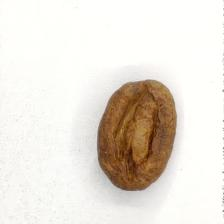NG: (107, 85, 169, 184)
